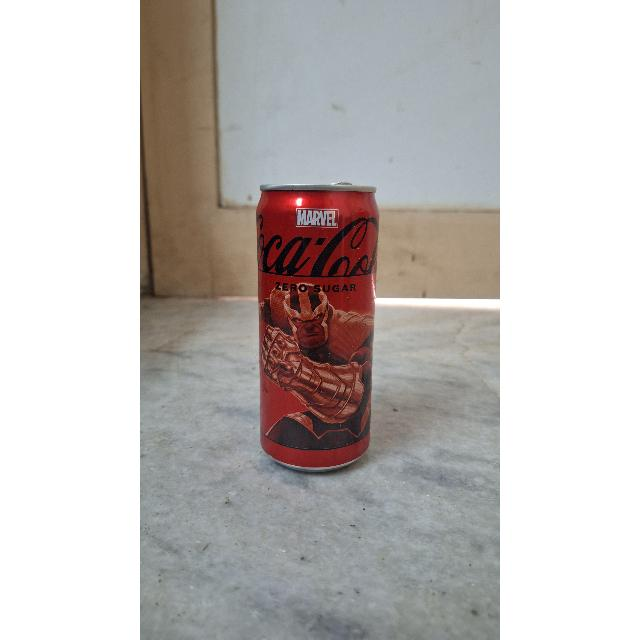Coca Cola Zero: (251, 188, 375, 468)
